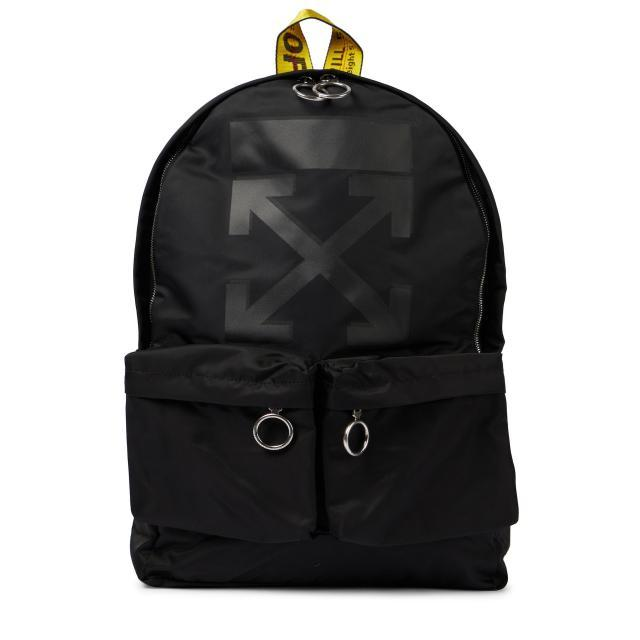Backpacks: (120, 70, 518, 594)
